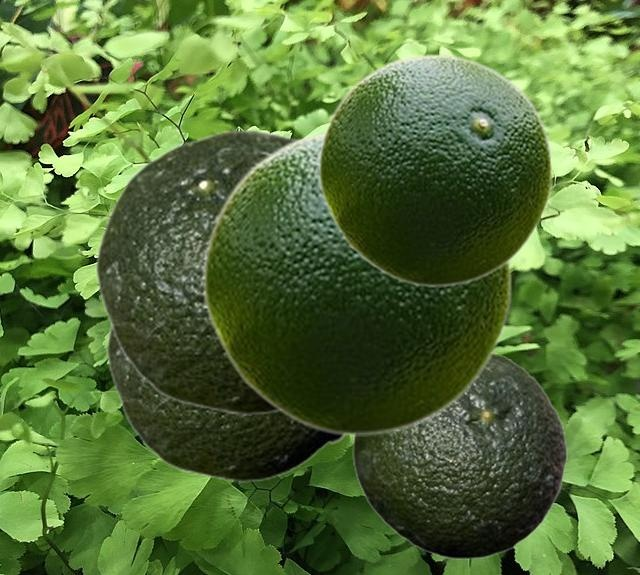calamansi: (201, 127, 512, 435), (95, 129, 300, 414), (317, 53, 553, 286), (352, 350, 567, 558), (106, 322, 347, 481)
